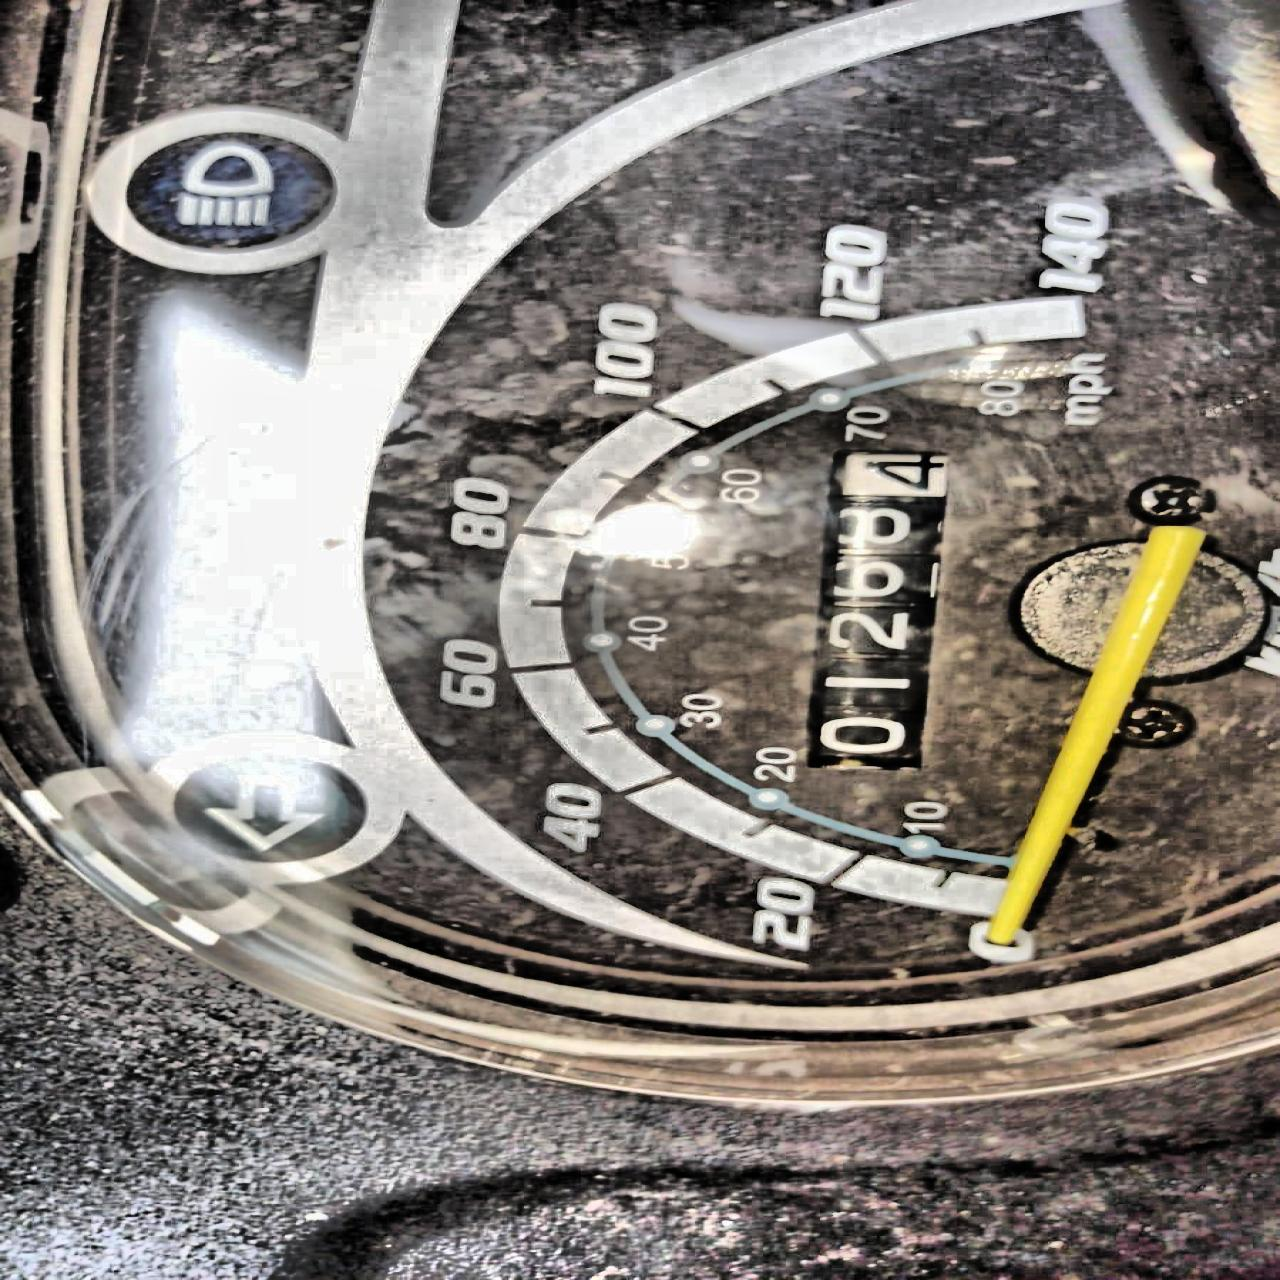0: (816, 713, 915, 760)
1: (815, 668, 926, 696)
2: (818, 607, 922, 655)
4: (858, 451, 953, 492)
6: (816, 560, 904, 598)
8: (824, 501, 926, 546)
odometer: (802, 448, 968, 787)
